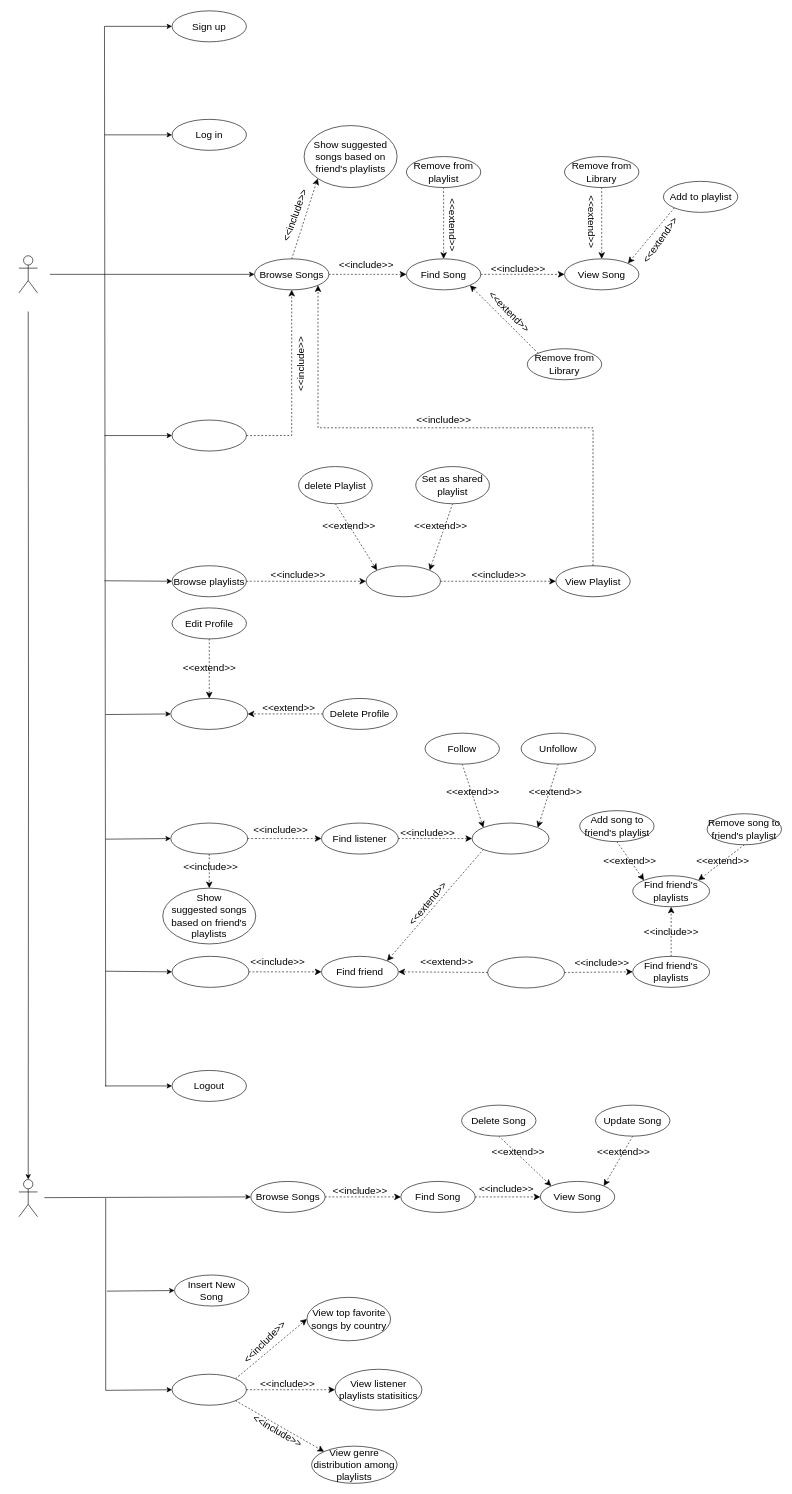
Some shapes in this 792 by 1494 pixel diagram are drawn without their labels. Each missing label, with the box of its shape:
Admin: (18, 1179, 38, 1217)
Browse friend's playlists: (487, 956, 565, 988)
Browse friends: (171, 956, 249, 987)
Browse listeners: (170, 822, 248, 854)
Find Playlist: (365, 565, 441, 597)
Listener: (18, 255, 38, 293)
View library: (171, 419, 246, 451)
View listener: (472, 822, 549, 854)
View profile: (170, 698, 248, 729)
View Statistics: (171, 1374, 246, 1405)
